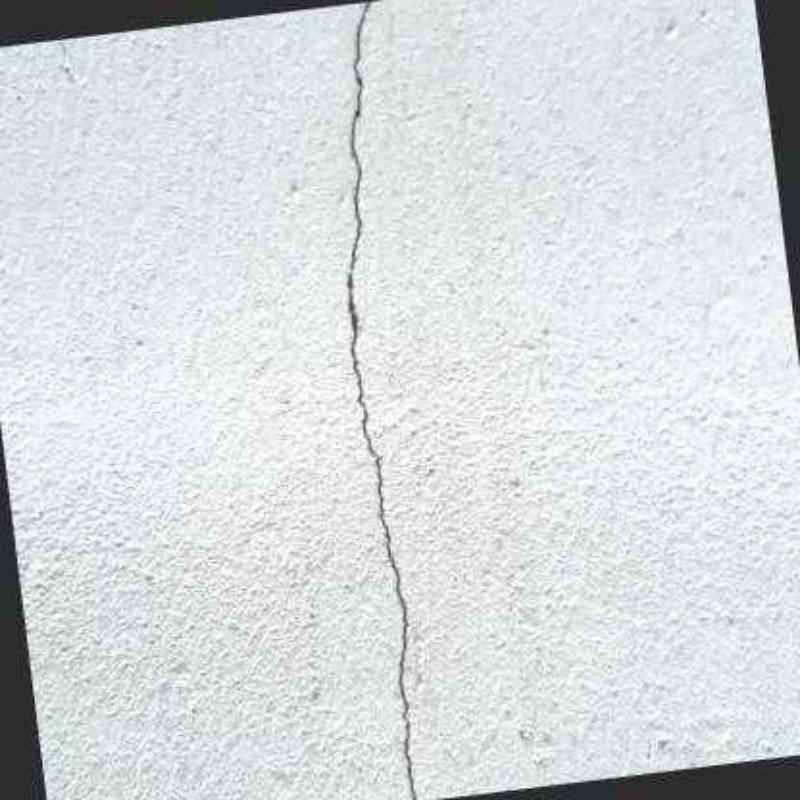pothole: (348, 1, 418, 798)
